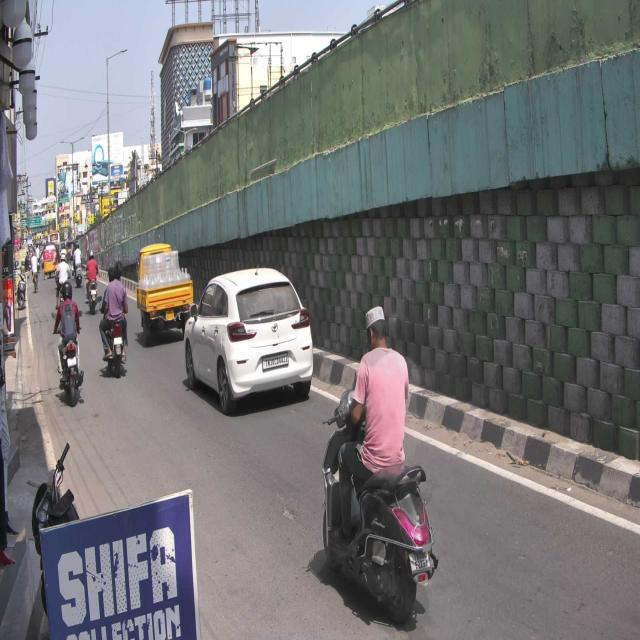single_rider: (321, 304, 439, 622)
